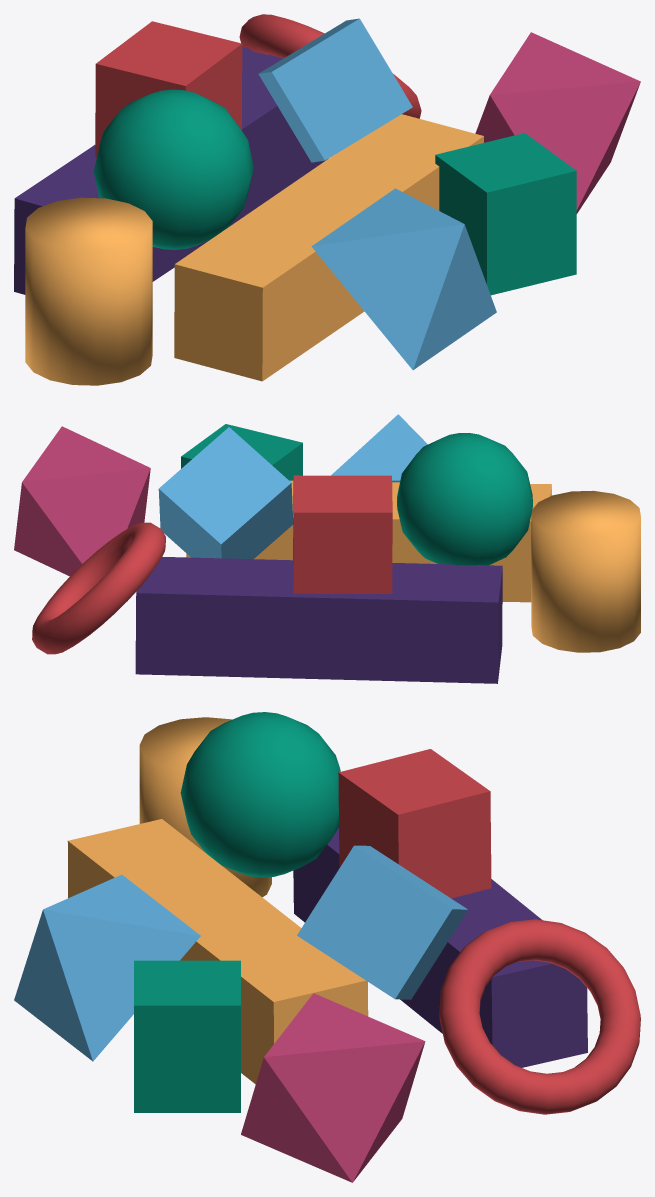
The model's file is pile_small_2.glb.
3 views of the same model, one above another, from view 1: azimuth 30°, elevation 25°; view 2: azimuth 150°, elevation 25°; view 3: azimuth 270°, elevation 25° (orthographic). The views are drawn at different scales.
Parts seen in each view (by area): view 1: pile_small_2; view 2: pile_small_2; view 3: pile_small_2.
Part boxes in pixels (left/top/right/bottom): pile_small_2: left=14, top=14, right=640, bottom=385; pile_small_2: left=14, top=414, right=640, bottom=683; pile_small_2: left=14, top=712, right=640, bottom=1182.
Size of the model in its own units: 9.32 by 2.97 by 7.56.
